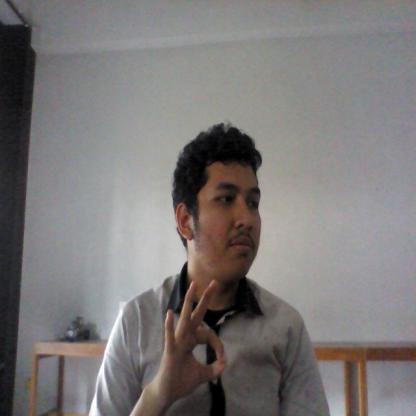O: (152, 276, 244, 396)
